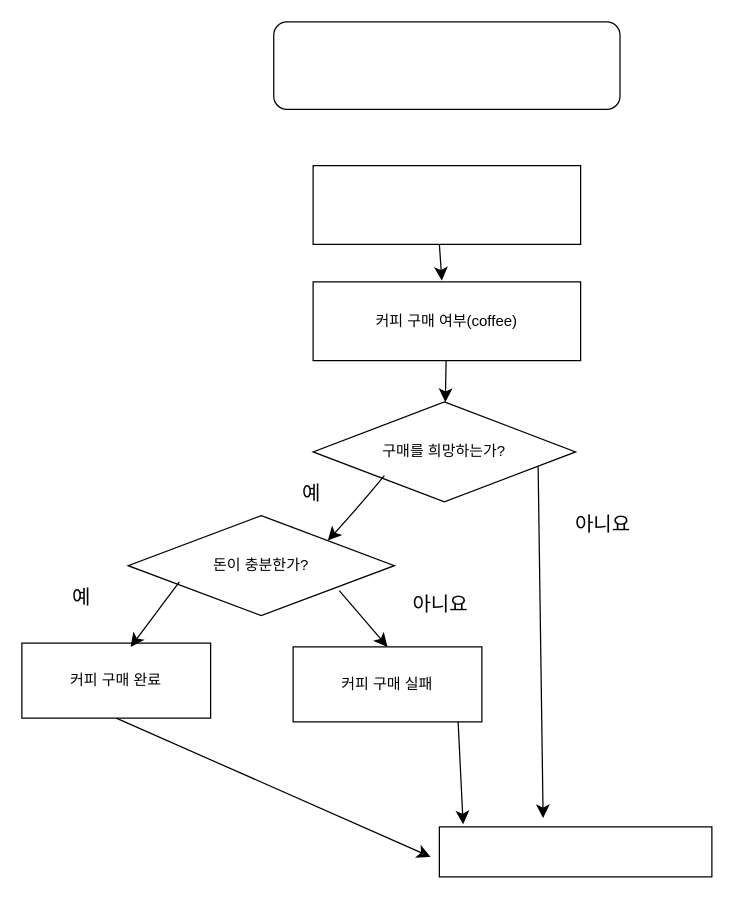
This 734x899 diagram has some shape labels left out. Here are the shapes that lost their labels. From the top down, the centre of each, then its label:
point (446, 65): 커피 빵 구매 관련 프로그램
point (446, 204): 돈 입력(money)
point (575, 851): 빵 구매 여부(bread)
